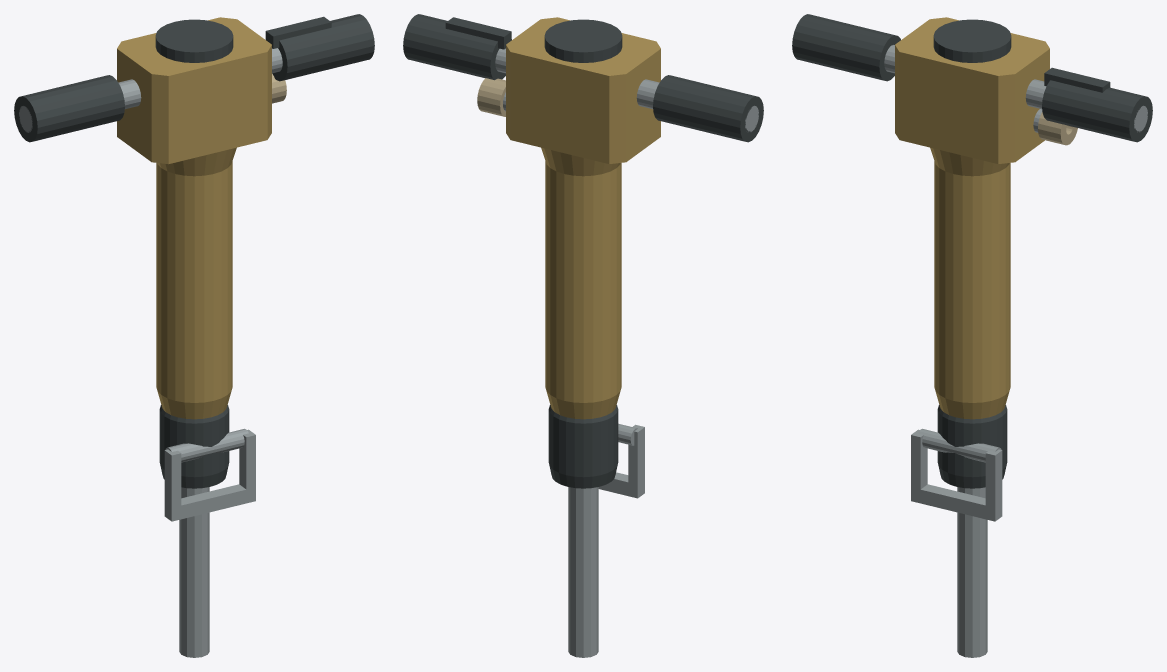
3 views of the same model, side by side, from view 1: azimuth 30°, elevation 25°; view 2: azimuth 150°, elevation 25°; view 3: azimuth 330°, elevation 25° (orthographic).
Parts seen in each view (by area): view 1: WholeSteppedLongChamber, WholeBroadUpperHead, WholeLeftGripSleeve, WholeFiniteBluntLowerStem, WholeRightGripSleeve, WholeLowerAnnularRetainer, WholeBentRetainingLink, WholeTopCap, WholeLowerRetainerPivot, WholeTransverseHandleCore, WholeTopTrigger; view 2: WholeSteppedLongChamber, WholeBroadUpperHead, WholeFiniteBluntLowerStem, WholeLowerAnnularRetainer, WholeLeftGripSleeve, WholeRightGripSleeve, WholeTopCap, WholeBentRetainingLink, WholeTransverseHandleCore, WholeTopTrigger, WholeSideRingEndedConnector; view 3: WholeSteppedLongChamber, WholeBroadUpperHead, WholeLeftGripSleeve, WholeFiniteBluntLowerStem, WholeRightGripSleeve, WholeLowerAnnularRetainer, WholeBentRetainingLink, WholeTopCap, WholeLowerRetainerPivot, WholeTransverseHandleCore, WholeTopTrigger, WholeSideRingEndedConnector.
Part boxes in pixels (x1,y1,x2,y2): WholeSteppedLongChamber: (156, 147, 236, 419); WholeBroadUpperHead: (117, 17, 271, 164); WholeLeftGripSleeve: (14, 75, 124, 142); WholeFiniteBluntLowerStem: (179, 487, 209, 657); WholeRightGripSleeve: (272, 14, 374, 81); WholeLowerAnnularRetainer: (159, 405, 229, 488); WholeBentRetainingLink: (164, 429, 255, 521); WholeTopCap: (155, 19, 233, 62); WholeLowerRetainerPivot: (165, 428, 248, 462); WholeTransverseHandleCore: (19, 48, 282, 132); WholeTopTrigger: (265, 16, 331, 48); WholeSteppedLongChamber: (541, 147, 621, 419); WholeBroadUpperHead: (506, 17, 660, 164); WholeFiniteBluntLowerStem: (568, 487, 598, 657); WholeLowerAnnularRetainer: (548, 405, 618, 488); WholeLeftGripSleeve: (653, 75, 763, 142); WholeRightGripSleeve: (403, 14, 511, 80); WholeTopCap: (544, 19, 622, 62); WholeBentRetainingLink: (598, 424, 644, 498); WholeTransverseHandleCore: (495, 48, 758, 131); WholeTopTrigger: (445, 17, 511, 49); WholeSideRingEndedConnector: (477, 78, 505, 116); WholeSteppedLongChamber: (930, 147, 1010, 419); WholeBroadUpperHead: (895, 17, 1049, 164); WholeLeftGripSleeve: (792, 14, 900, 81); WholeFiniteBluntLowerStem: (957, 487, 987, 657); WholeRightGripSleeve: (1042, 80, 1152, 142); WholeLowerAnnularRetainer: (937, 405, 1007, 488); WholeBentRetainingLink: (911, 429, 1002, 521); WholeTopCap: (933, 19, 1011, 62); WholeLowerRetainerPivot: (918, 428, 1001, 462); WholeTransverseHandleCore: (884, 45, 1147, 132); WholeTopTrigger: (1044, 67, 1110, 92); WholeSideRingEndedConnector: (1038, 112, 1077, 145).
Size of the model in its own units: 0.56 by 0.977 by 0.136.
